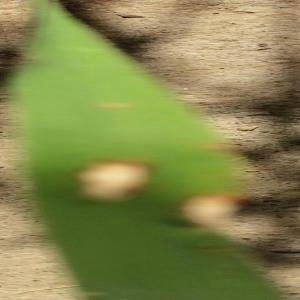Brown_Spot: (58, 144, 169, 218), (168, 176, 257, 234)
